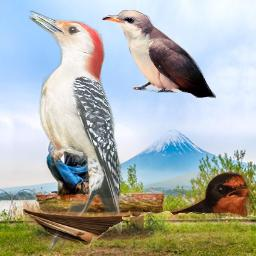Cuckoo: (102, 10, 216, 99)
Swallow: (23, 170, 251, 253)
Woodpecker: (24, 10, 122, 253)
